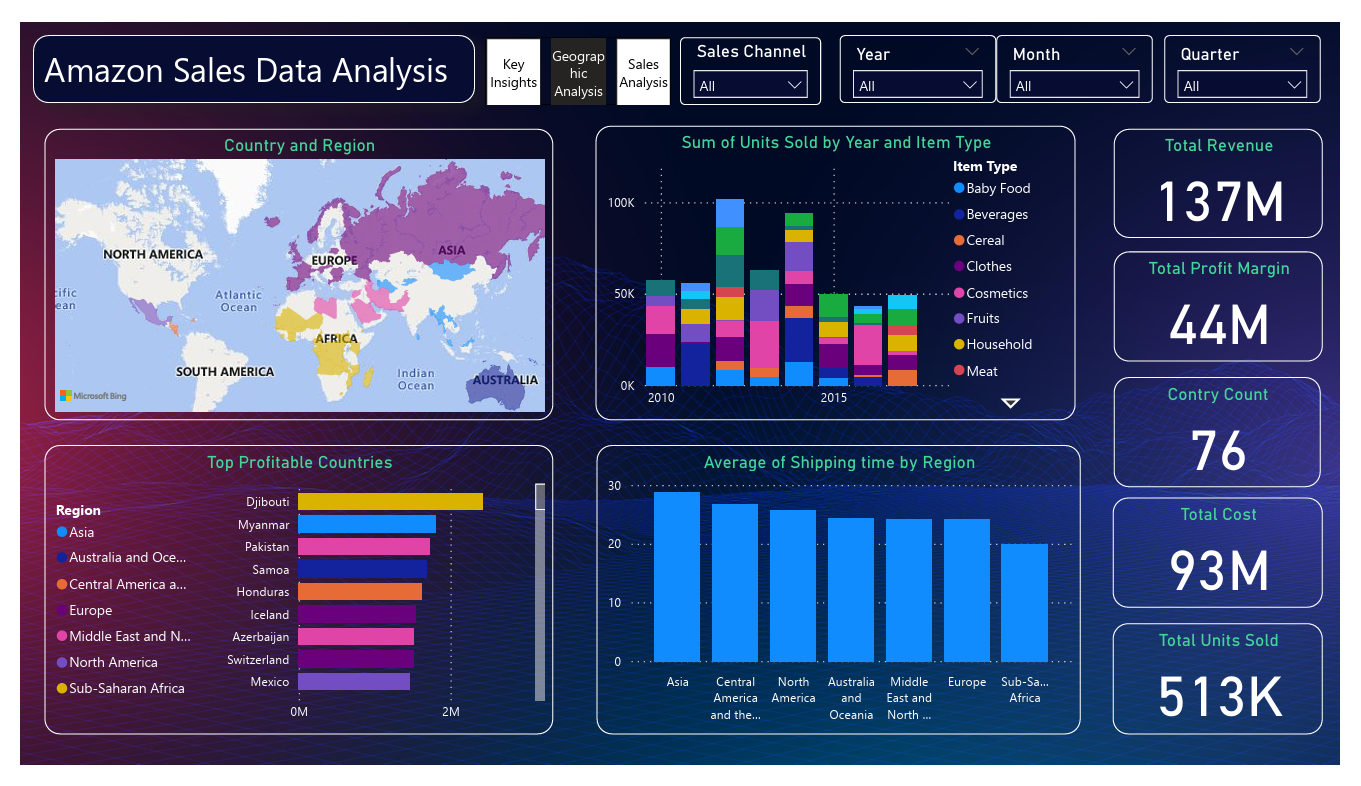

What the dashboard file says about the page in this screenshot:
{"tool":"powerbi","page":{"name":"Geographic Analysis","canvas":[1280,720],"ordinal":1},"visuals":[{"type":"textbox","box":[12.1,12.1,429.3,66.3],"z":0},{"type":"card","title":"Total Profit Margin","fields":{"Values":["Sum(Amazonsalesdata.Total Profit)"]},"box":[1061.3,221.9,202.6,107.3],"z":1000},{"type":"card","title":"Total Cost","fields":{"Values":["Sum(Amazonsalesdata.Total Cost)"]},"box":[1060.1,460.7,203.8,107.3],"z":2000},{"type":"card","title":"Total Units Sold","fields":{"Values":["Sum(Amazonsalesdata.Units Sold)"]},"box":[1060.1,582.5,203.8,108.5],"z":3000},{"type":"slicer","fields":{"Values":["Amazonsalesdata.Ship Date.Variation.Date Hierarchy.Year"]},"box":[794.5,12.3,152.3,65.9],"z":4000},{"type":"slicer","fields":{"Values":["Amazonsalesdata.Ship Date.Variation.Date Hierarchy.Month"]},"box":[946.8,12.3,152.3,65.9],"z":5000},{"type":"slicer","fields":{"Values":["Amazonsalesdata.Ship Date.Variation.Date Hierarchy.Quarter"]},"box":[1110.1,12.3,152.3,65.9],"z":6000},{"type":"columnChart","fields":{"Y":["Avg(Amazonsalesdata.Shipping time)"],"Category":["Amazonsalesdata.Region"]},"box":[558.6,410,470,281.4],"z":7000},{"type":"barChart","title":"Top Profitable Countries","fields":{"Category":["Amazonsalesdata.Country"],"Series":["Amazonsalesdata.Region"],"Y":["Sum(Amazonsalesdata.Total Profit)"]},"box":[22.9,410,494.3,281.4],"z":8000},{"type":"card","title":"Total Revenue","fields":{"Values":["Sum(Amazonsalesdata.Total Revenue)"]},"box":[1061.3,102.5,202.6,106.1],"z":10000},{"type":"pageNavigator","box":[450.9,14.1,179.8,65.5],"z":11000},{"type":"slicer","title":"Sales Channel","fields":{"Values":["Amazonsalesdata.Sales Channel"]},"box":[639.7,14.1,137.5,65.5],"z":12000},{"type":"card","title":"Contry Count","fields":{"Values":["Count(Amazonsalesdata.Country)"]},"box":[1061.3,343.7,200.2,107.3],"z":13000},{"type":"columnChart","fields":{"Category":["Amazonsalesdata.Ship Date.Variation.Date Hierarchy.Year"],"Y":["Sum(Amazonsalesdata.Units Sold)"],"Series":["Amazonsalesdata.Item Type"]},"box":[558.5,100.2,465.2,285.4],"z":14000},{"type":"filledMap","fields":{"Category":["Amazonsalesdata.Country"],"Series":["Amazonsalesdata.Region"]},"box":[23.3,102.9,494,282.7],"z":14001}]}

Visuals, with their boxes in screenshot pixels (x1, y1, x2, y2), scaled from the page's 1280x720 canvas onto the 1361x786 screenshot:
textbox: [13, 13, 469, 86]
"Total Profit Margin" card: [1128, 242, 1344, 359]
"Total Cost" card: [1127, 503, 1344, 620]
"Total Units Sold" card: [1127, 636, 1344, 754]
slicer - Amazonsalesdata.Ship Date.Variation.Date Hierarchy.Year: [845, 13, 1007, 85]
slicer - Amazonsalesdata.Ship Date.Variation.Date Hierarchy.Month: [1007, 13, 1169, 85]
slicer - Amazonsalesdata.Ship Date.Variation.Date Hierarchy.Quarter: [1180, 13, 1342, 85]
columnChart - Avg(Amazonsalesdata.Shipping time) x Amazonsalesdata.Region: [594, 448, 1094, 755]
"Top Profitable Countries" barChart: [24, 448, 550, 755]
"Total Revenue" card: [1128, 112, 1344, 228]
pageNavigator: [479, 15, 671, 87]
"Sales Channel" slicer: [680, 15, 826, 87]
"Contry Count" card: [1128, 375, 1341, 492]
columnChart - Amazonsalesdata.Ship Date.Variation.Date Hierarchy.Year x Sum(Amazonsalesdata.Units Sold): [594, 109, 1088, 421]
filledMap - Amazonsalesdata.Country x Amazonsalesdata.Region: [25, 112, 550, 421]
